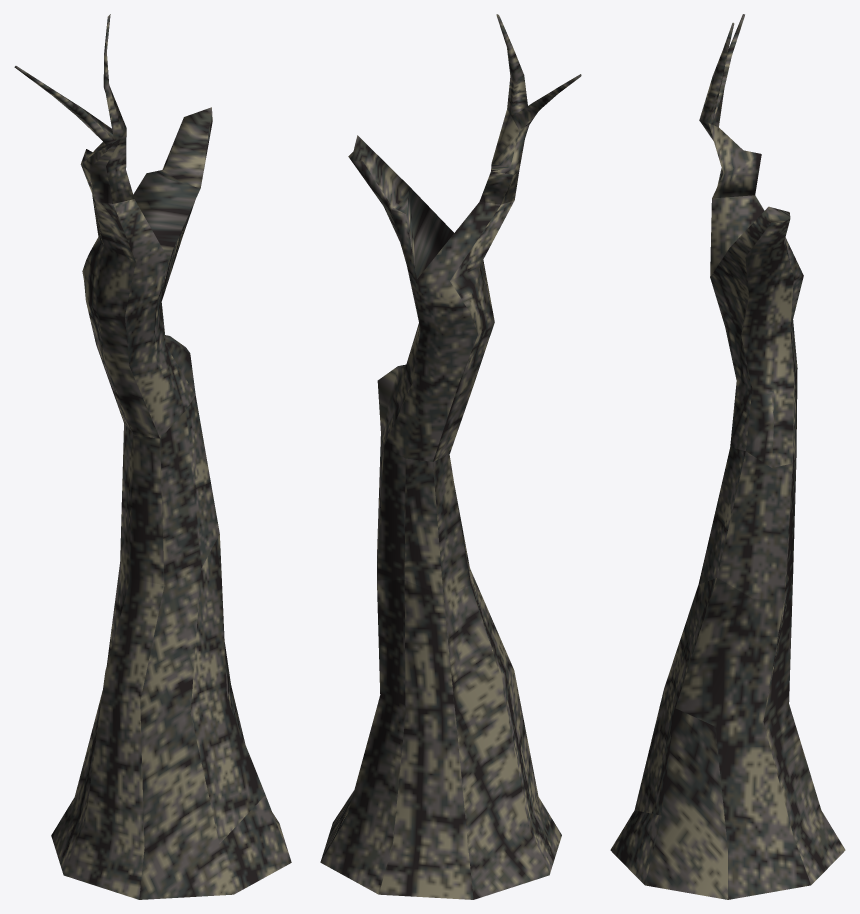
The model's file is DeadTree_lg.fbx.
3 views of the same model, side by side, from view 1: azimuth 30°, elevation 25°; view 2: azimuth 150°, elevation 25°; view 3: azimuth 270°, elevation 25° (orthographic). The views are drawn at different scales.
Visible parts, largest first — view 1: DeadTree_lg; view 2: DeadTree_lg; view 3: DeadTree_lg.
Part boxes in pixels (x1,y1,x2,y2): DeadTree_lg: (14,14,291,899); DeadTree_lg: (320,14,581,899); DeadTree_lg: (610,14,845,899).
Size of the model in its own units: 220 by 695 by 185.
